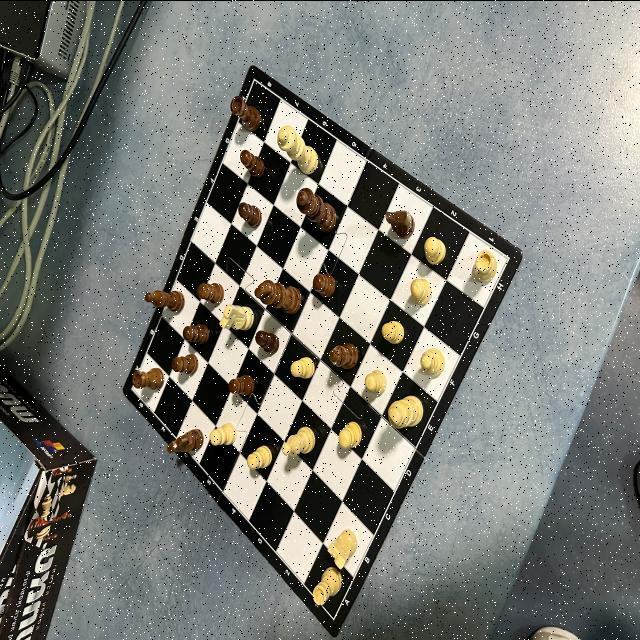Black-Bishop: (144, 288, 184, 312), (328, 342, 358, 368)
Black-King: (254, 278, 301, 312)
Black-Knight: (167, 427, 204, 453), (386, 209, 414, 239)
Black-Pawn: (240, 148, 264, 176), (182, 322, 210, 344), (238, 202, 262, 227), (197, 282, 224, 304), (255, 329, 279, 353), (312, 272, 335, 296), (228, 374, 254, 395), (172, 352, 198, 372)
Black-Queen: (296, 186, 336, 229)
Black-Rook: (230, 95, 260, 132), (132, 367, 164, 390)
White-Bishop: (282, 426, 316, 456), (420, 348, 444, 376)
White-King: (388, 394, 422, 428)
White-Knight: (328, 528, 358, 568), (218, 302, 254, 330)
White-Pawn: (424, 236, 446, 264), (339, 420, 361, 448), (248, 444, 272, 468), (410, 278, 432, 304), (210, 422, 236, 444), (381, 320, 405, 342), (364, 368, 386, 392), (290, 356, 314, 378)
White-Queen: (277, 124, 319, 172)
White-Rook: (313, 566, 342, 604), (473, 250, 497, 282)
